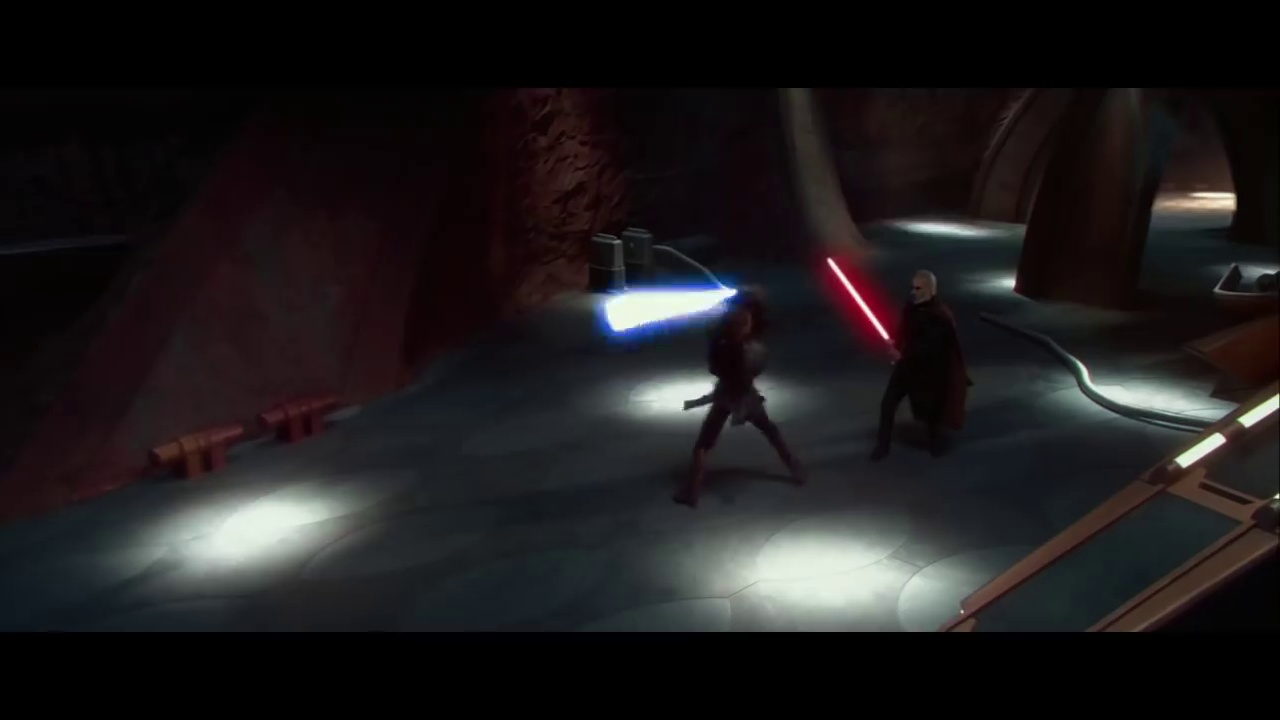lightsaber: (581, 272, 747, 338), (822, 257, 904, 363)
